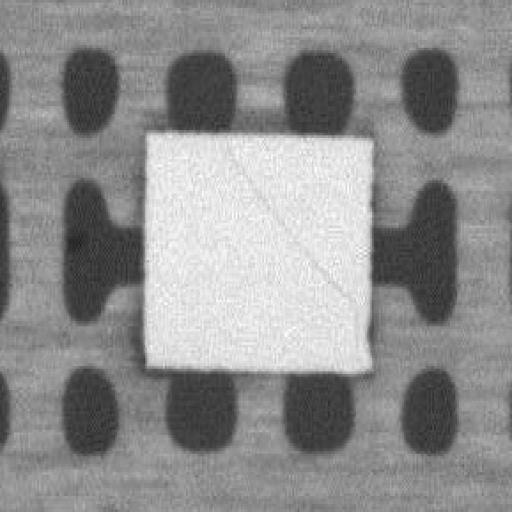DIE_CRACK: (223, 136, 356, 334)
